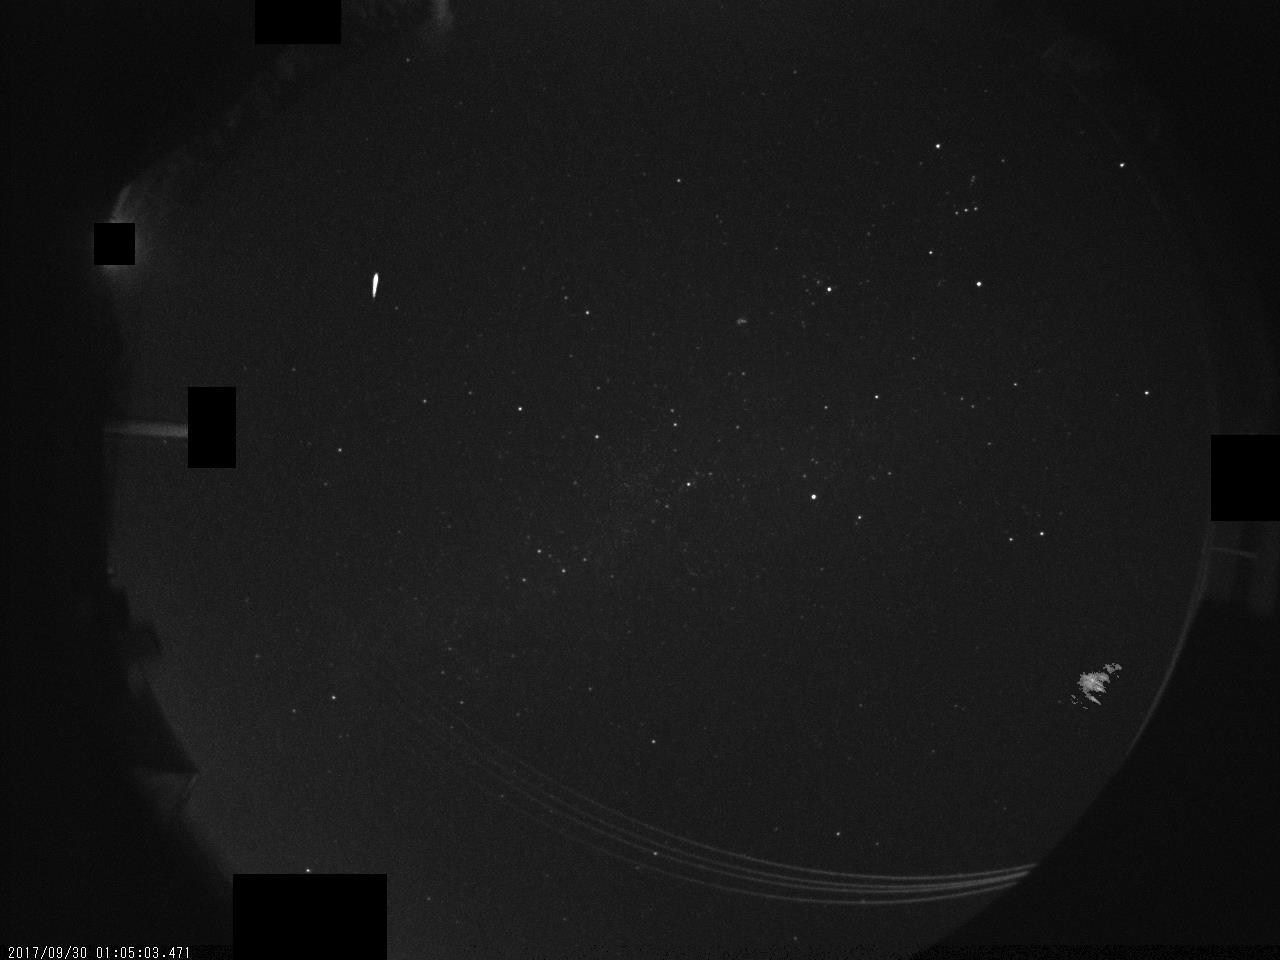TLE: (1068, 662, 1124, 716)
